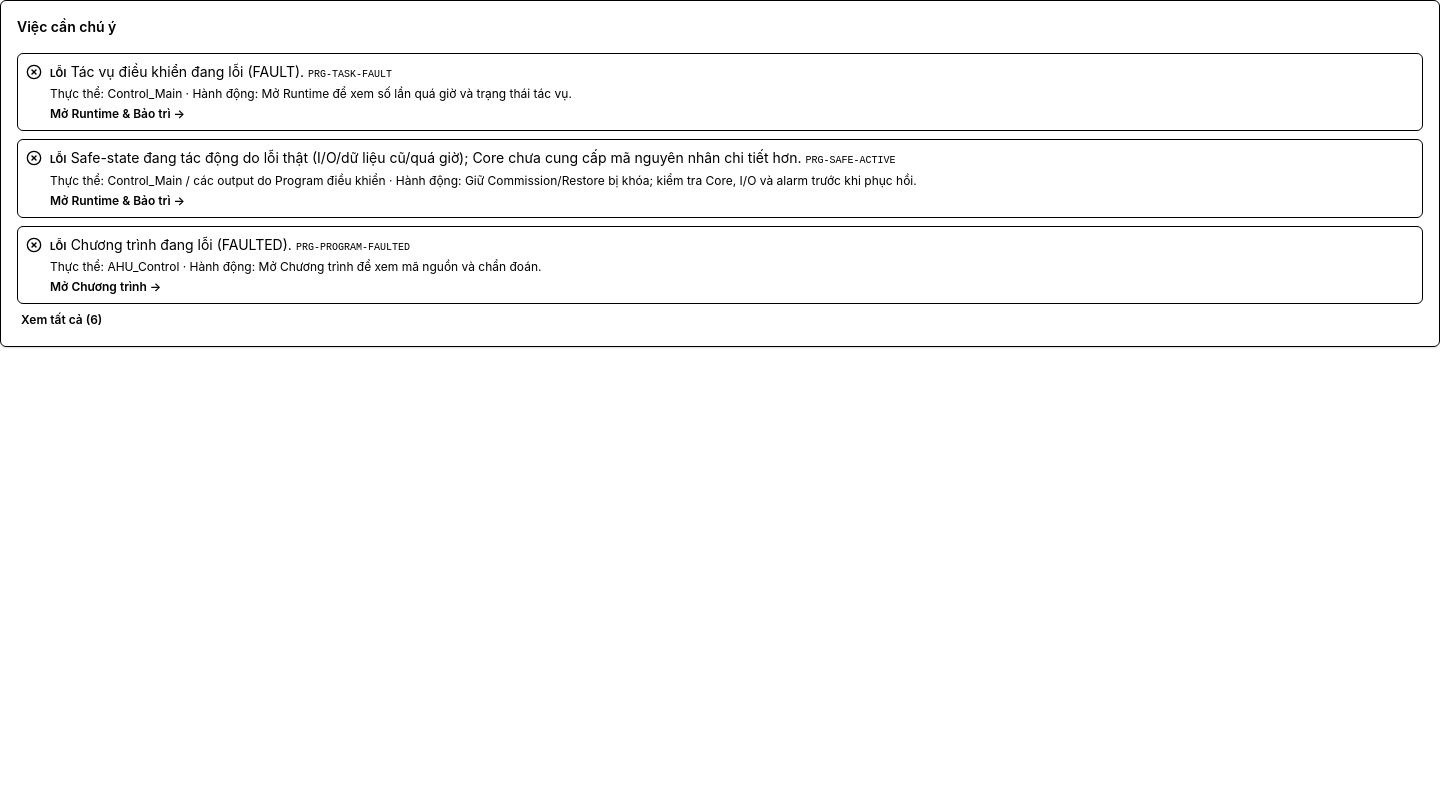
Test: NeedsAttentionCard — hiển thị › "Xem tất cả (n)" chỉ hiện khi dài hơn phần xem trước và mở hết danh sách
This screenshot has width=1440, height=810.
Expected: the number of list items is 3, [17,53,1423,131]; [17,139,1423,218]; [17,226,1423,304]
Click the button with test id "attention-show-all" at (62, 320), box [17,312,106,328]
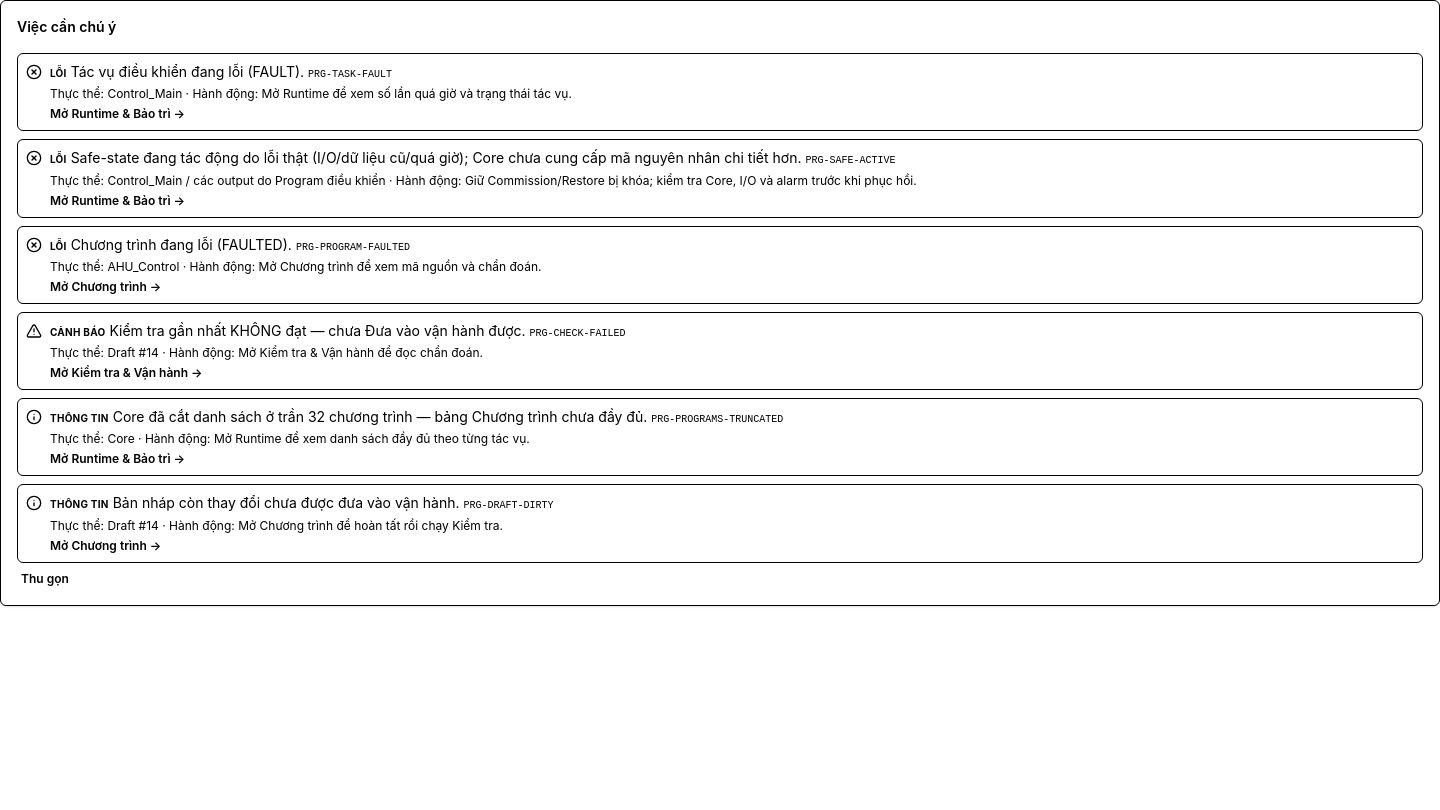
Now the number of list items is 6, box [17,53,1423,131]; [17,139,1423,218]; [17,226,1423,304]; [17,312,1423,390]; [17,398,1423,476]; [17,484,1423,563]
Now the button with test id "attention-show-all" reads "Thu gọn", box [17,571,73,587]
